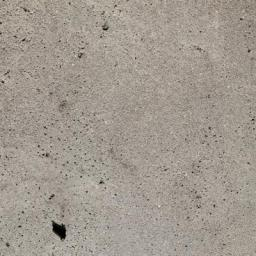FOD: (51, 220, 72, 245)
